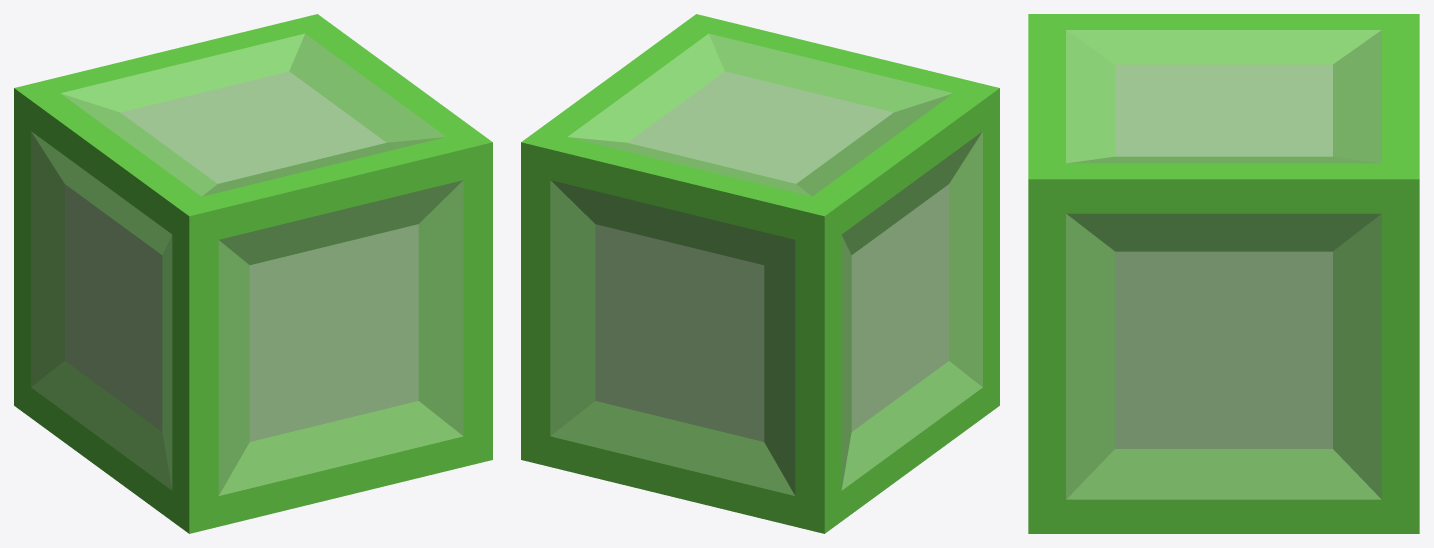
The model's file is CubeGreen.fbx.
3 renders of one model, left to right at view 1: azimuth 30°, elevation 25°; view 2: azimuth 150°, elevation 25°; view 3: azimuth 270°, elevation 25°, orthographic. The views are drawn at different scales.
Visible parts, largest first — view 1: Cube.004; view 2: Cube.004; view 3: Cube.004.
Boxes of the visible parts, x1,y1,x2,y2 form: Cube.004: (14,14,492,533); Cube.004: (521,14,999,533); Cube.004: (1028,14,1419,533).
Size of the model in its own units: 109 by 109 by 109.
